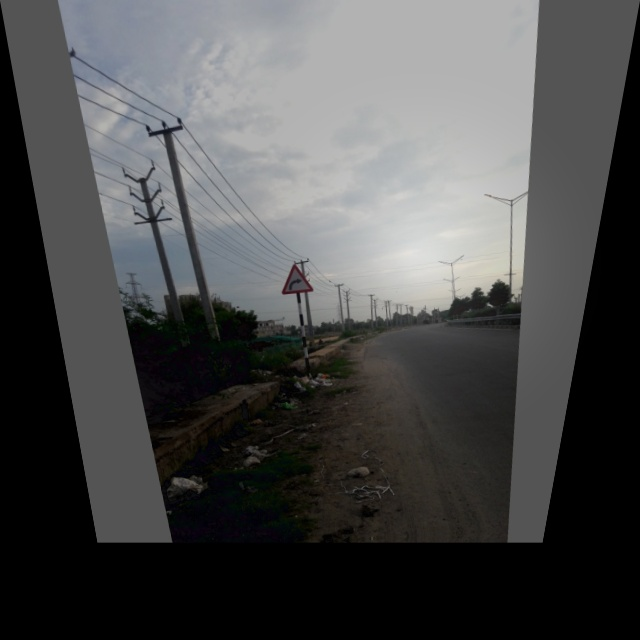Right_Hand_Curve: (278, 261, 314, 299)
